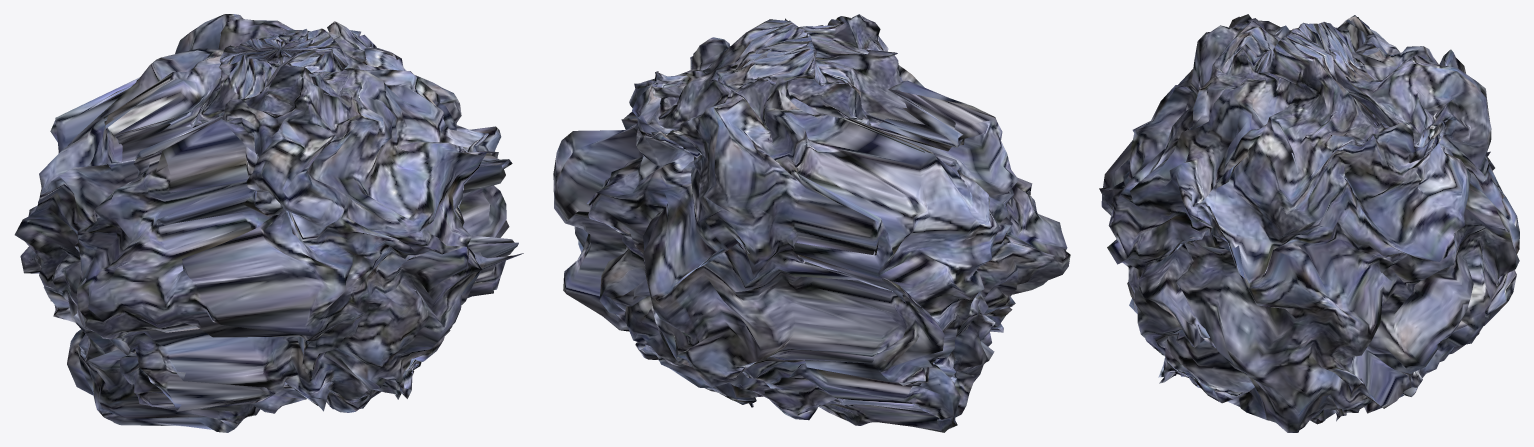
Rendered from asteroid2.FBX.
3 views of the same model, side by side, from view 1: azimuth 30°, elevation 25°; view 2: azimuth 150°, elevation 25°; view 3: azimuth 270°, elevation 25° (orthographic). The views are drawn at different scales.
Parts seen in each view (by area): view 1: Sphere01; view 2: Sphere01; view 3: Sphere01.
Boxes of the visible parts, x1=… form: Sphere01: x1=14, y1=14, x2=523, y2=432; Sphere01: x1=553, y1=14, x2=1070, y2=432; Sphere01: x1=1099, y1=14, x2=1519, y2=432.
Size of the model in its own units: 218 by 169 by 170.
Materials: 1 (1 with a texture image).
